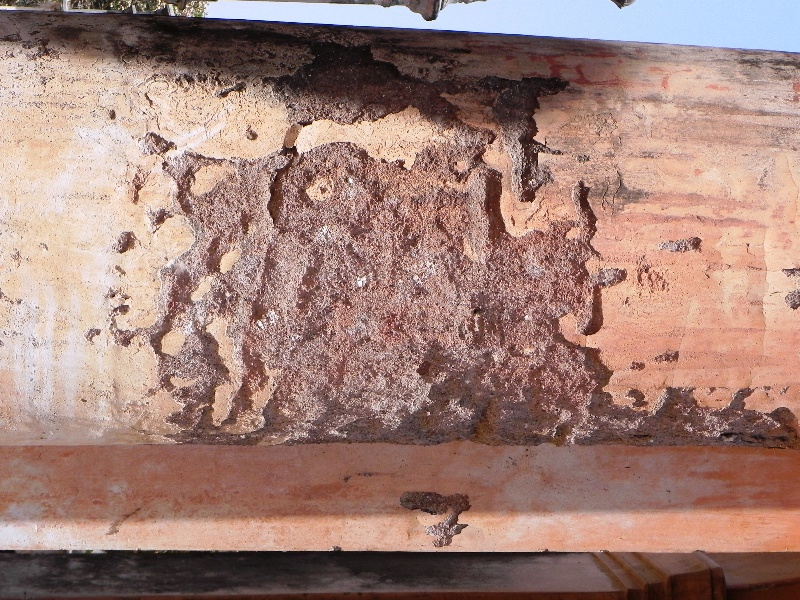Spalling: (133, 48, 798, 457)
